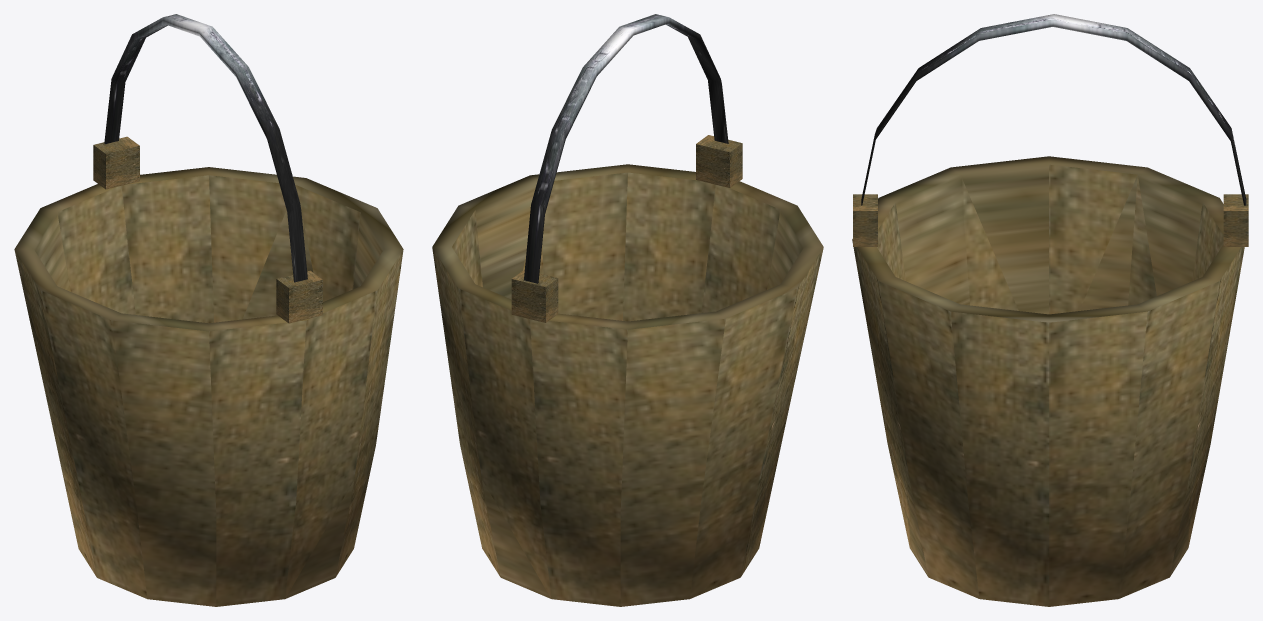
File: bucket.glb
3 renders of one model, left to right at view 1: azimuth 30°, elevation 25°; view 2: azimuth 150°, elevation 25°; view 3: azimuth 270°, elevation 25°, orthographic.
Visible parts, largest first — view 1: bucket.ms3d.mo; view 2: bucket.ms3d.mo; view 3: bucket.ms3d.mo.
Part boxes in pixels (<box>): bucket.ms3d.mo: <box>14,14,403,606</box>; bucket.ms3d.mo: <box>432,14,823,606</box>; bucket.ms3d.mo: <box>852,14,1248,606</box>.
Bounding box in the file's own units: 16.37 × 24.21 × 16.48.
2 materials, 2 textured.
